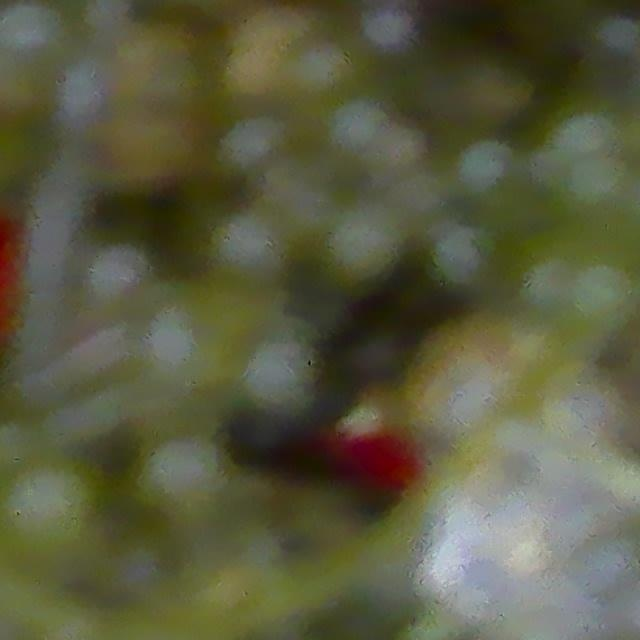SeaGrape: (0, 453, 103, 564), (137, 434, 226, 520), (322, 199, 407, 285), (238, 334, 319, 417), (208, 207, 290, 288), (424, 217, 502, 297), (561, 146, 637, 224), (278, 32, 357, 104), (452, 135, 525, 206), (81, 239, 150, 305), (216, 109, 286, 172), (0, 0, 67, 63), (323, 94, 387, 157)
